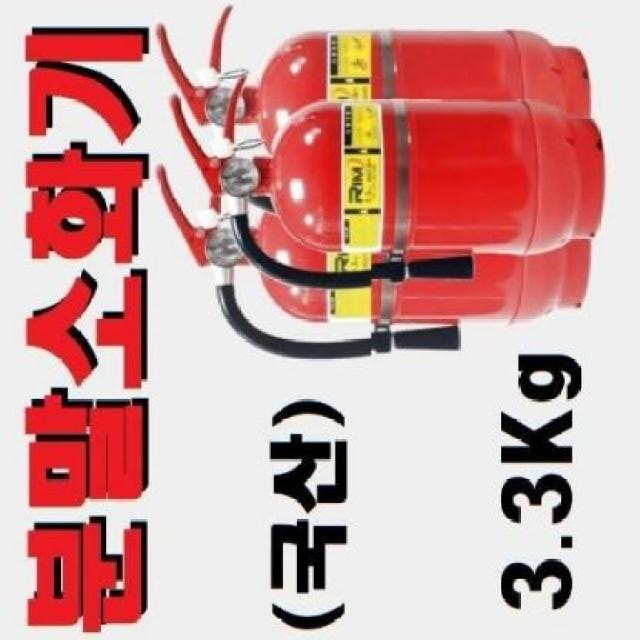fire extinguisher: (168, 74, 606, 291), (154, 163, 594, 360), (155, 5, 590, 157)
